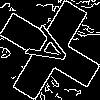A: (25, 25, 81, 77)
